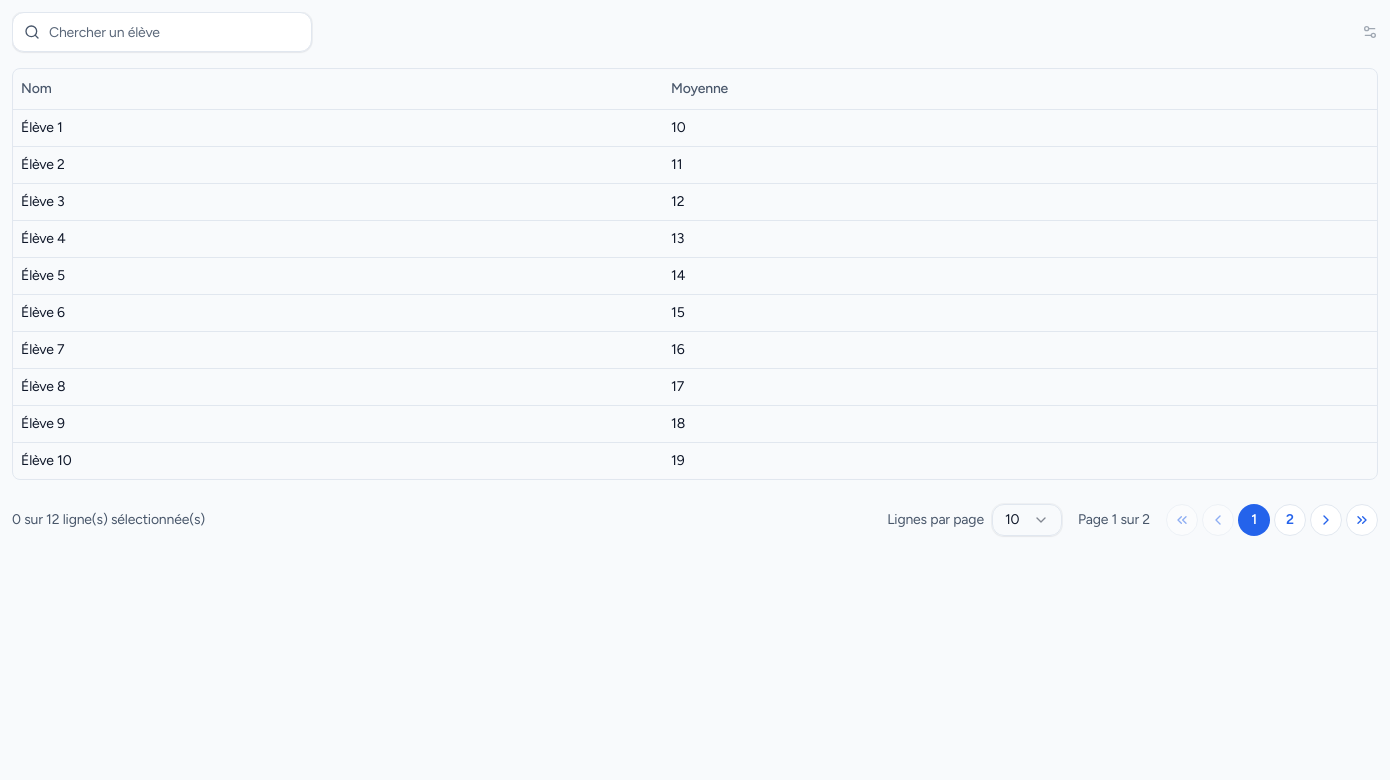
DataTable › filtre sur la colonne de recherche
The image size is (1390, 780).
Type "Élève 12" into the field with placeholder "Chercher un élève".
click(162, 32); type("Élève 12")  # box [12,12,312,52]
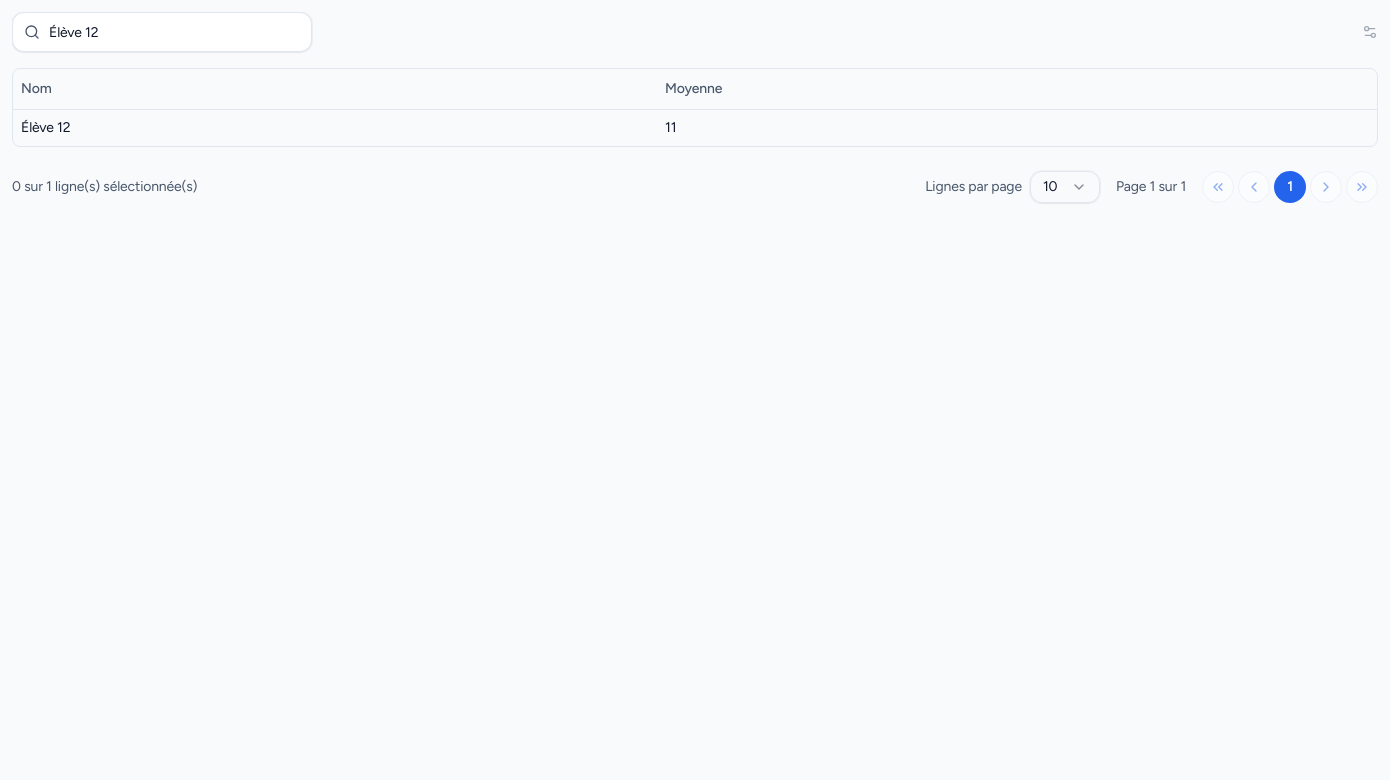
Result: the text "Élève 12" is shown at [13,109,657,146]
Replace the text in the field with placeholder "Chercher un élève" with "personne" at x=162, y=32, box [12,12,312,52]
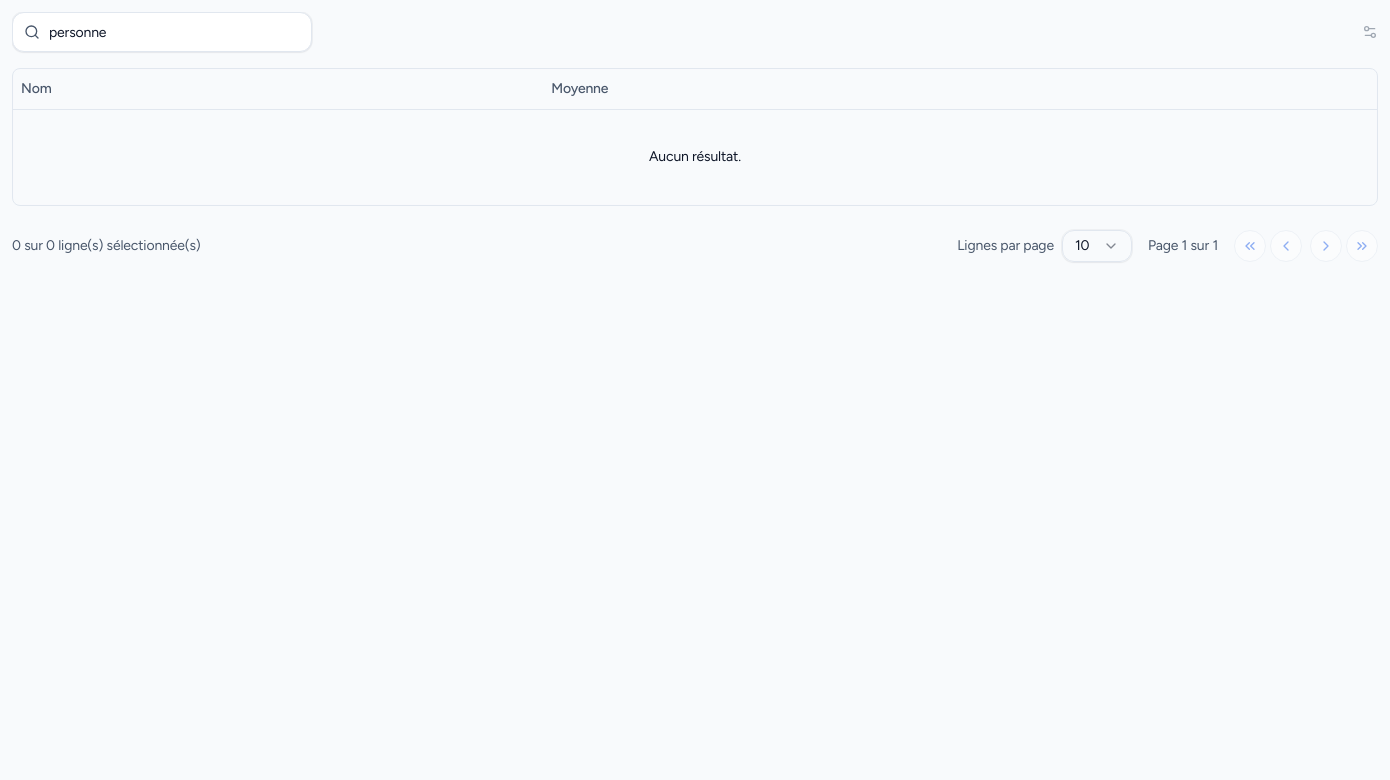
Result: the text "Aucun résultat." is shown at [13,109,1377,205]
